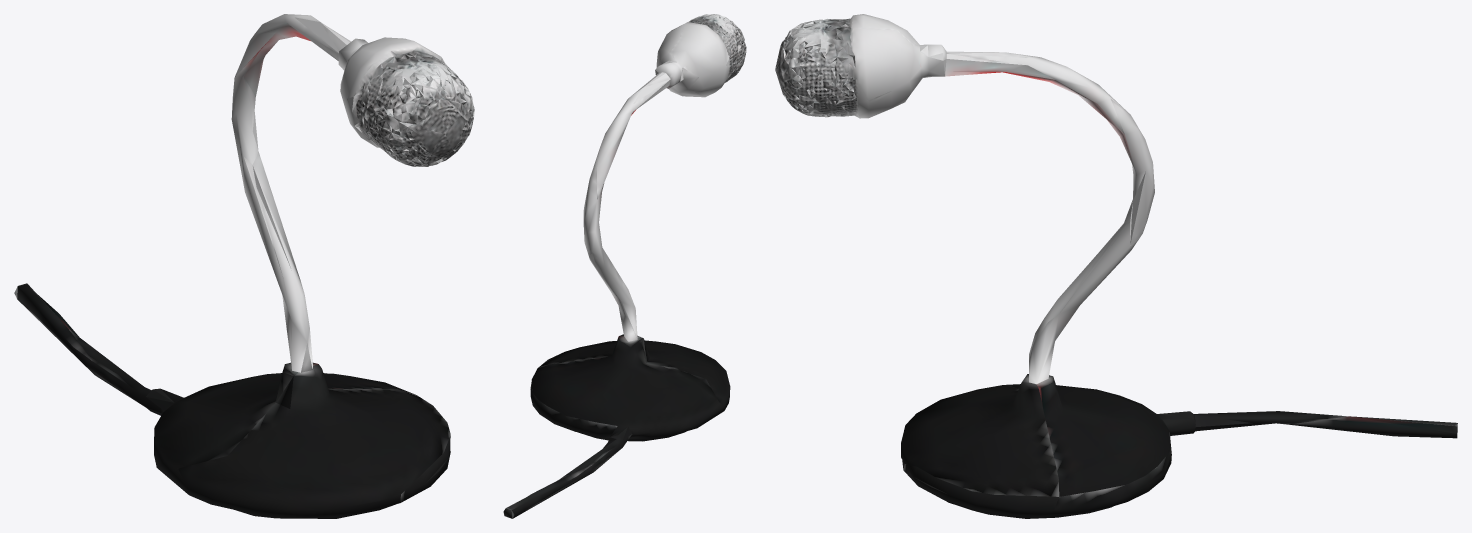
The model's file is addy_pa_microphone.obj.
3 renders of one model, left to right at view 1: azimuth 30°, elevation 25°; view 2: azimuth 150°, elevation 25°; view 3: azimuth 270°, elevation 25°, orthographic. The views are drawn at different scales.
Visible parts, largest first — view 1: model; view 2: model; view 3: model.
Boxes of the visible parts, left/top/right/bottom form: model: left=14, top=14, right=474, bottom=518; model: left=503, top=14, right=746, bottom=518; model: left=775, top=14, right=1457, bottom=518.
Bounding box in the file's own units: 0.7511 × 1.39 × 1.9.
